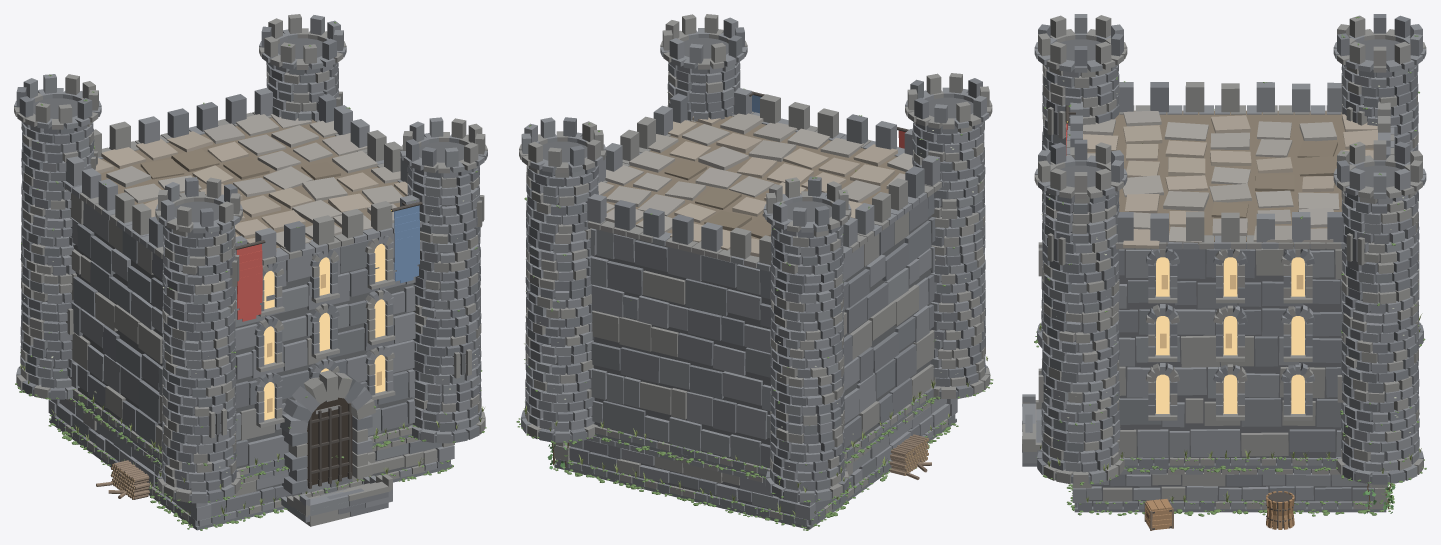
The model's file is monument_keep.glb.
The picture shows the model from 3 angles, left to right: view 1: azimuth 30°, elevation 25°; view 2: azimuth 150°, elevation 25°; view 3: azimuth 270°, elevation 25°; orthographic projection. The views are drawn at different scales.
Visible parts, largest first — view 1: monument_keep; view 2: monument_keep; view 3: monument_keep.
Boxes of the visible parts, x1=… form: monument_keep: x1=14, y1=14, x2=487, y2=530; monument_keep: x1=516, y1=14, x2=993, y2=530; monument_keep: x1=1022, y1=14, x2=1426, y2=530.
Bounding box in the file's own units: 11.18 × 11 × 11.37.
